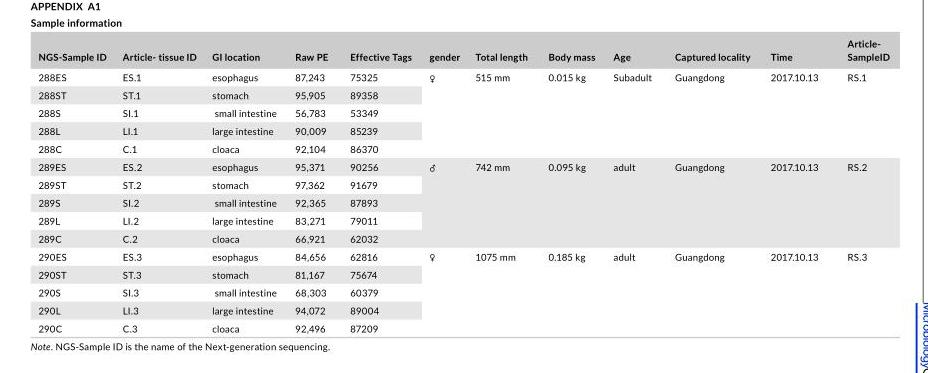table: (38, 36, 890, 333)
table column: (663, 36, 760, 333), (114, 36, 204, 333), (204, 36, 286, 333), (339, 36, 420, 333), (38, 36, 114, 333), (760, 36, 833, 333), (467, 36, 538, 333), (538, 36, 604, 333), (604, 36, 663, 333), (833, 36, 890, 333), (286, 36, 339, 333), (420, 36, 467, 333)
table column header: (38, 36, 890, 66)
table row: (38, 36, 890, 66), (38, 66, 890, 85), (38, 156, 890, 175), (38, 85, 890, 103), (38, 103, 890, 121), (38, 121, 890, 139), (38, 175, 890, 193), (38, 193, 890, 211), (38, 211, 890, 229), (38, 246, 890, 264), (38, 264, 890, 282), (38, 282, 890, 300), (38, 300, 890, 318), (38, 139, 890, 156), (38, 229, 890, 246), (38, 318, 890, 333)
table spanning cell: (663, 66, 760, 156), (663, 156, 760, 246), (663, 246, 760, 333), (760, 66, 833, 156), (760, 156, 833, 246), (467, 66, 538, 156), (467, 156, 538, 246), (760, 246, 833, 333), (467, 246, 538, 333), (538, 66, 604, 156), (538, 156, 604, 246), (538, 246, 604, 333), (604, 66, 663, 156), (604, 156, 663, 246), (604, 246, 663, 333), (833, 66, 890, 156), (833, 156, 890, 246), (833, 246, 890, 333), (420, 66, 467, 156), (420, 156, 467, 246), (420, 246, 467, 333)
